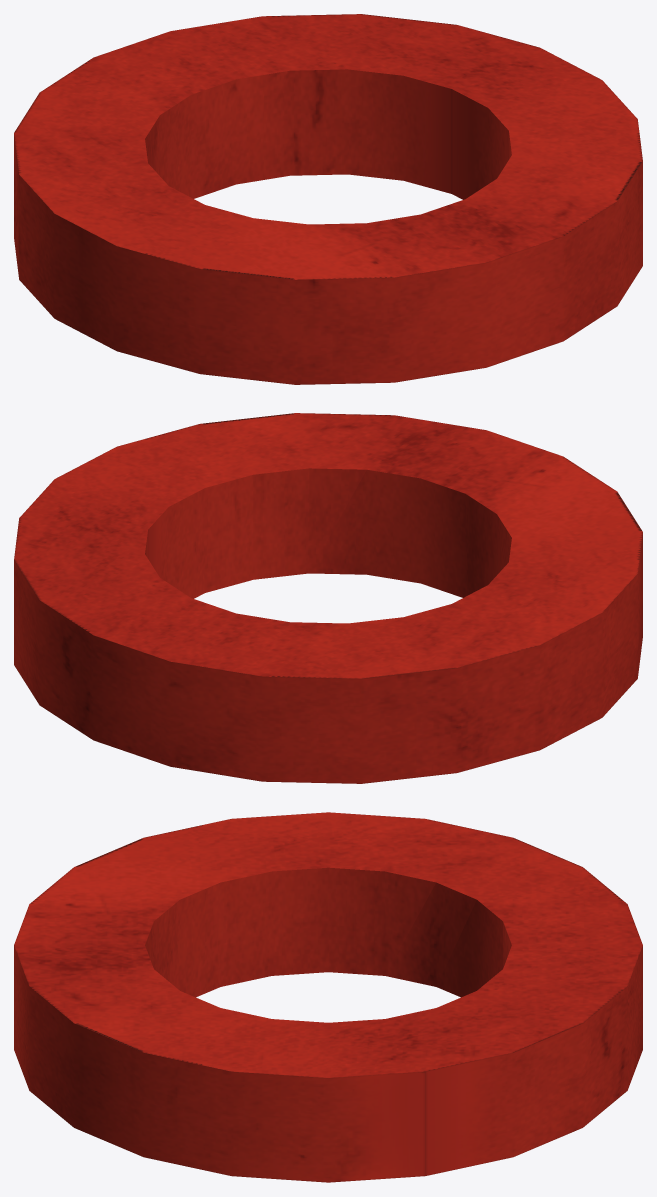
File: reach.obj
3 renders of one model, top to bottom at view 1: azimuth 30°, elevation 25°; view 2: azimuth 150°, elevation 25°; view 3: azimuth 270°, elevation 25°, orthographic.
Visible parts, largest first — view 1: pCylinder3; view 2: pCylinder3; view 3: pCylinder3.
Part boxes in pixels (box(x1,y1,x2,y2)): pCylinder3: box(14, 14, 642, 384); pCylinder3: box(14, 413, 642, 783); pCylinder3: box(14, 812, 642, 1182).
Bounding box in the file's own units: 5.35 × 0.9811 × 5.35.
1 material, 1 textured.
